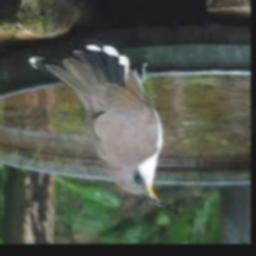Cuckoo: (30, 46, 167, 207)
